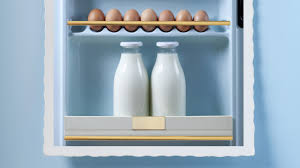milk: (148, 40, 190, 116), (117, 36, 146, 121)
